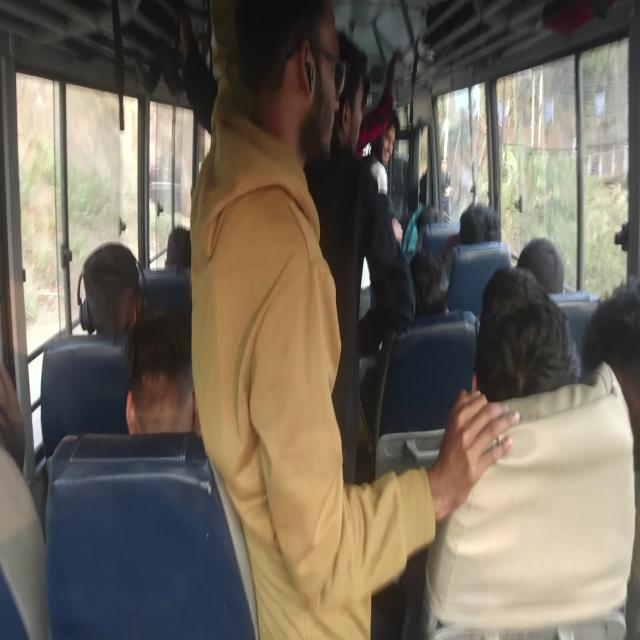person: (469, 286, 567, 414), (62, 235, 159, 364), (232, 1, 327, 102), (133, 337, 194, 430), (516, 237, 566, 296), (410, 248, 449, 318), (372, 113, 398, 165), (165, 225, 192, 270)
